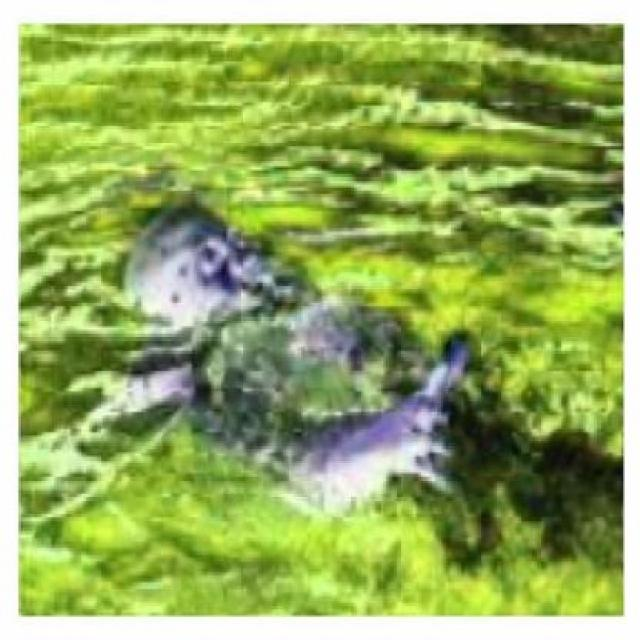drowning: (133, 204, 458, 507)
